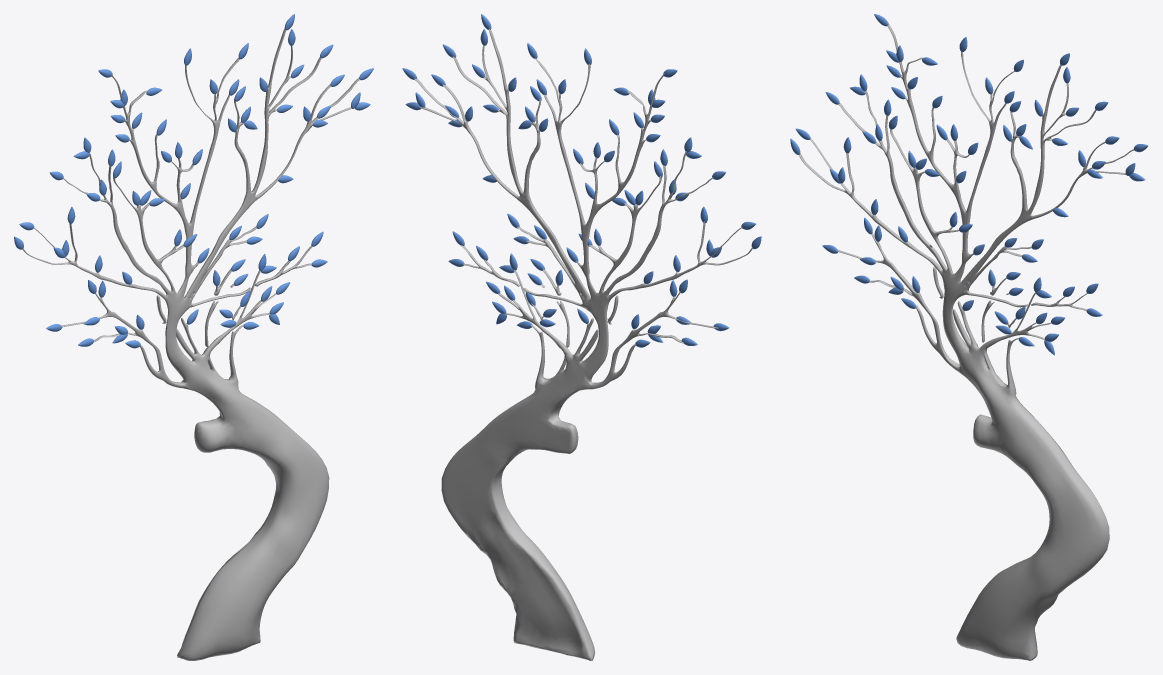
File: evilTree3_WithLeaves.fbx
3 renders of one model, left to right at view 1: azimuth 30°, elevation 25°; view 2: azimuth 150°, elevation 25°; view 3: azimuth 330°, elevation 25°, orthographic.
Visible parts, largest first — view 1: group2_evilTree5; view 2: group2_evilTree5; view 3: group2_evilTree5.
Boxes of the visible parts, x1=… form: group2_evilTree5: x1=14, y1=14, x2=373, y2=660; group2_evilTree5: x1=402, y1=14, x2=761, y2=660; group2_evilTree5: x1=790, y1=14, x2=1148, y2=660.
Size of the model in its own units: 21.69 by 35.71 by 1.81.
